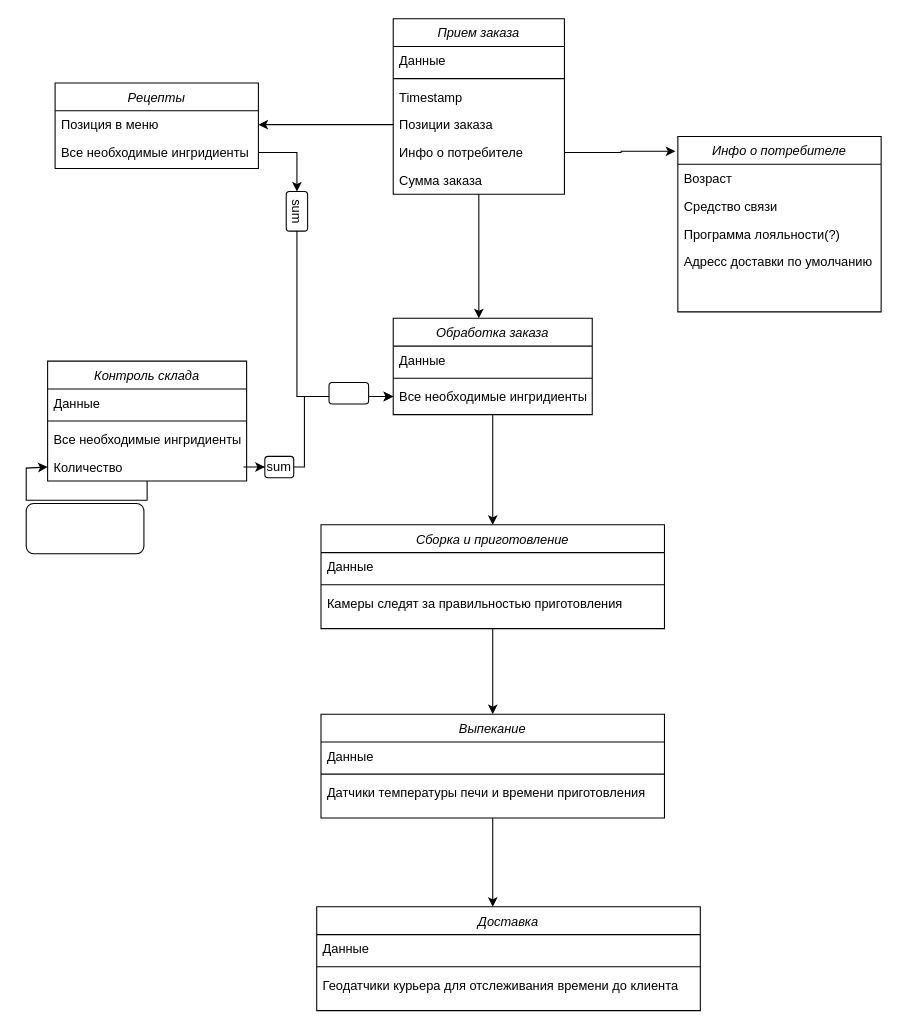
Image size: 900x1029. Some labels were removed from this diagram. The centre of each missing label's shape, as x and y in pixels:
gRPC заказ, если кончились продукты: point 84,528
sub: point 348,392
